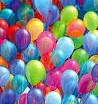Balloon: (25, 60, 45, 83), (36, 31, 55, 53), (61, 69, 78, 92), (66, 18, 84, 38), (15, 29, 31, 51), (26, 18, 42, 39), (83, 33, 98, 55), (78, 74, 95, 93), (16, 5, 35, 22), (56, 37, 72, 57), (83, 11, 98, 32), (1, 42, 17, 61), (60, 5, 77, 22), (33, 1, 51, 17), (12, 74, 27, 93), (1, 8, 16, 26), (27, 88, 43, 104), (51, 49, 65, 67), (45, 91, 61, 104), (1, 66, 10, 87)
